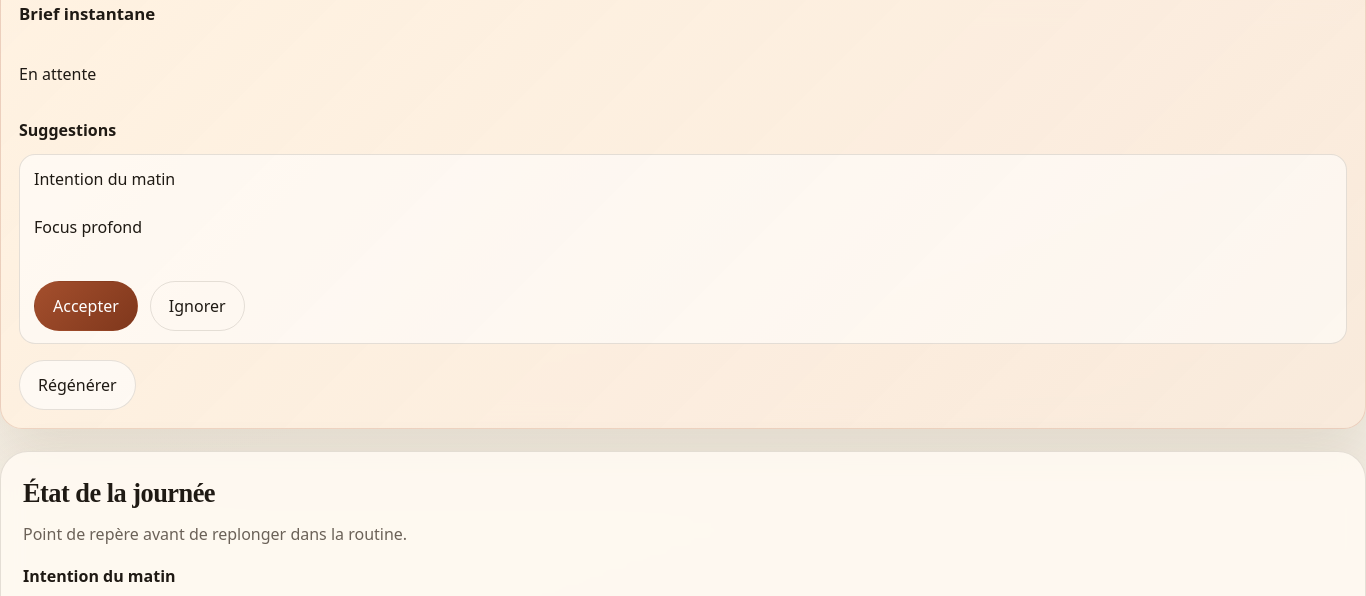
Test: TodayPage › keeps an in-flight regenerate when pulseRevision changes
(page scrolled)
Expected: the heading "Brief instantane" is shown, [19,2,155,25]
What coordinates should you click on to do the following:
click the button "Régénérer"
I would click on:
 (77, 385)
Its box is [19,360,136,410].
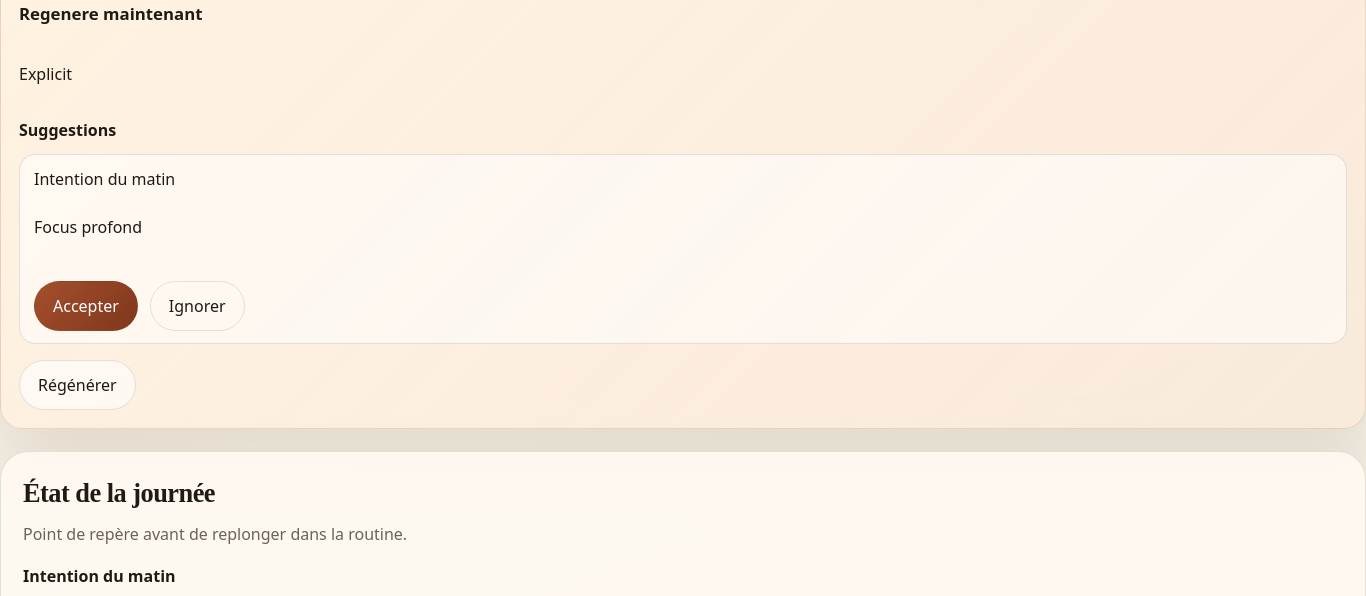
Expected: the heading "Regenere maintenant" is shown, [19,2,202,25]
